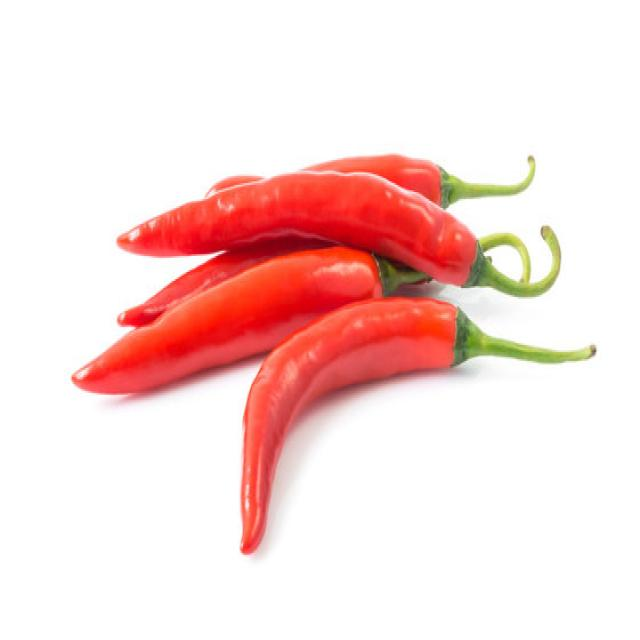Chilli: (238, 294, 594, 550), (115, 165, 560, 299), (70, 242, 432, 394), (204, 149, 535, 210)
